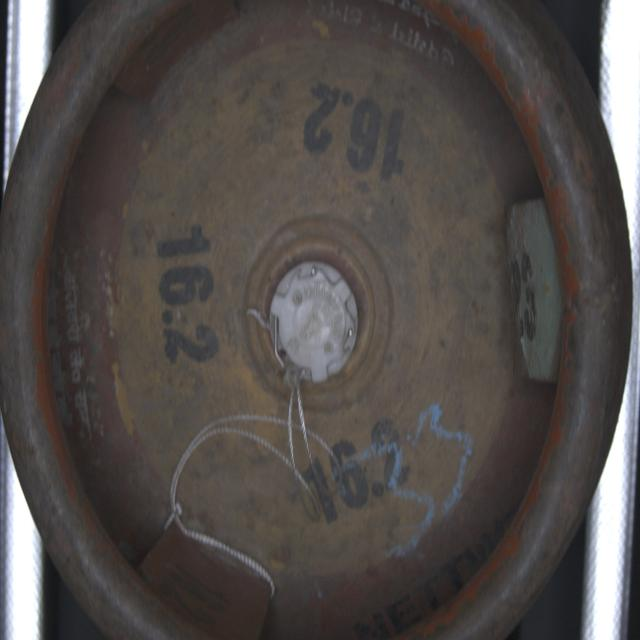Cap: (266, 256, 363, 390)
